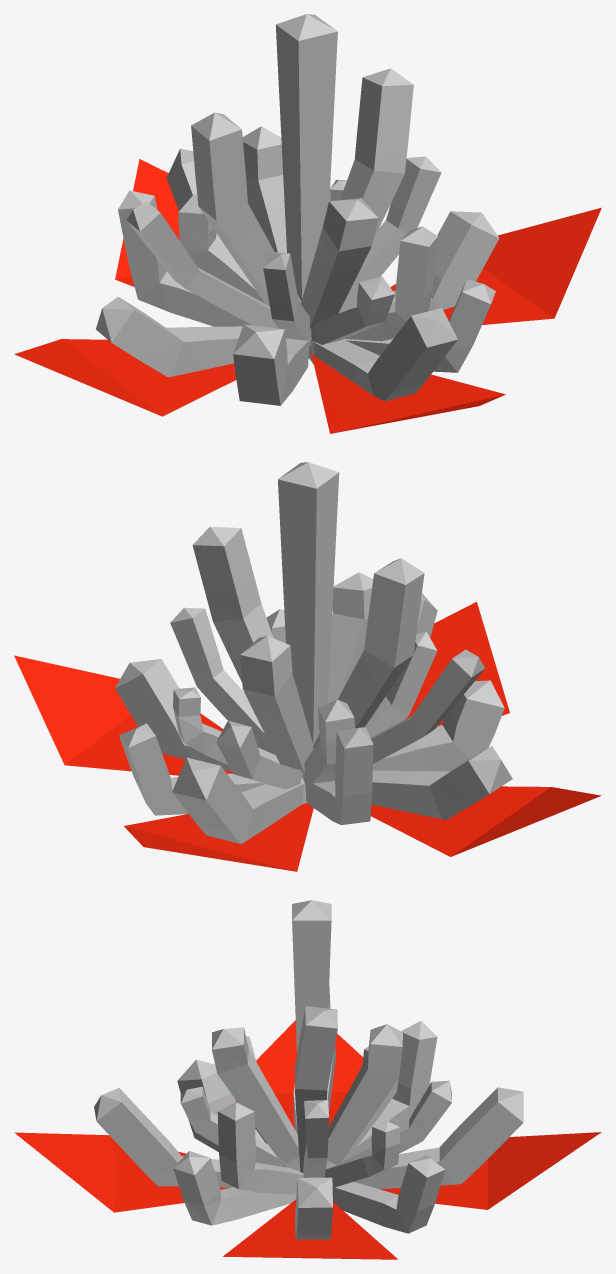
File: plant1.fbx
The picture shows the model from 3 angles, top to bottom: view 1: azimuth 30°, elevation 25°; view 2: azimuth 150°, elevation 25°; view 3: azimuth 270°, elevation 25°; orthographic projection. The views are drawn at different scales.
Parts seen in each view (by area): view 1: Cube, Plane; view 2: Cube, Plane; view 3: Cube, Plane.
Boxes of the visible parts, x1=… form: Cube: x1=95, y1=14, x2=499, y2=405; Plane: x1=14, y1=159, x2=601, y2=433; Cube: x1=115, y1=462, x2=512, y2=843; Plane: x1=14, y1=601, x2=601, y2=871; Cube: x1=94, y1=900, x2=523, y2=1239; Plane: x1=14, y1=1020, x2=601, y2=1259.
Size of the model in its own units: 355 by 195 by 352.
